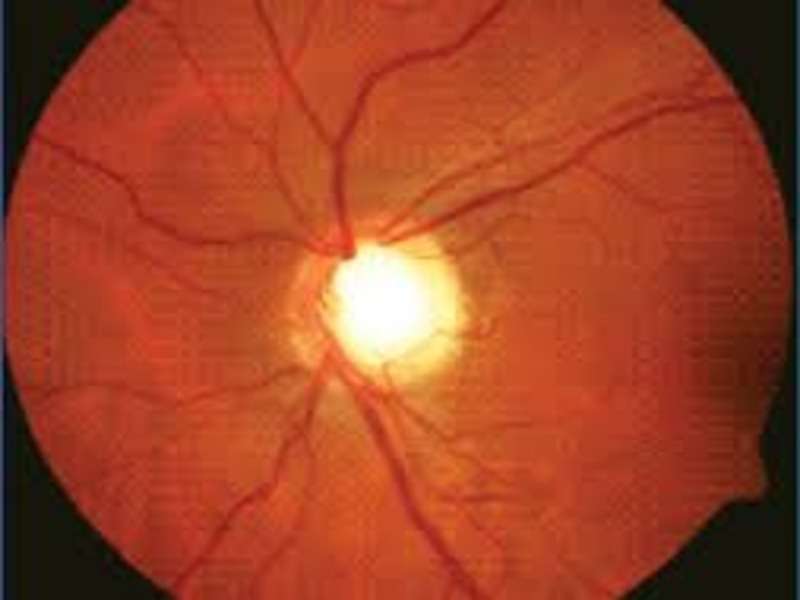Optic Cup: (333, 251, 461, 360)
Optic Disc: (284, 214, 482, 387)
